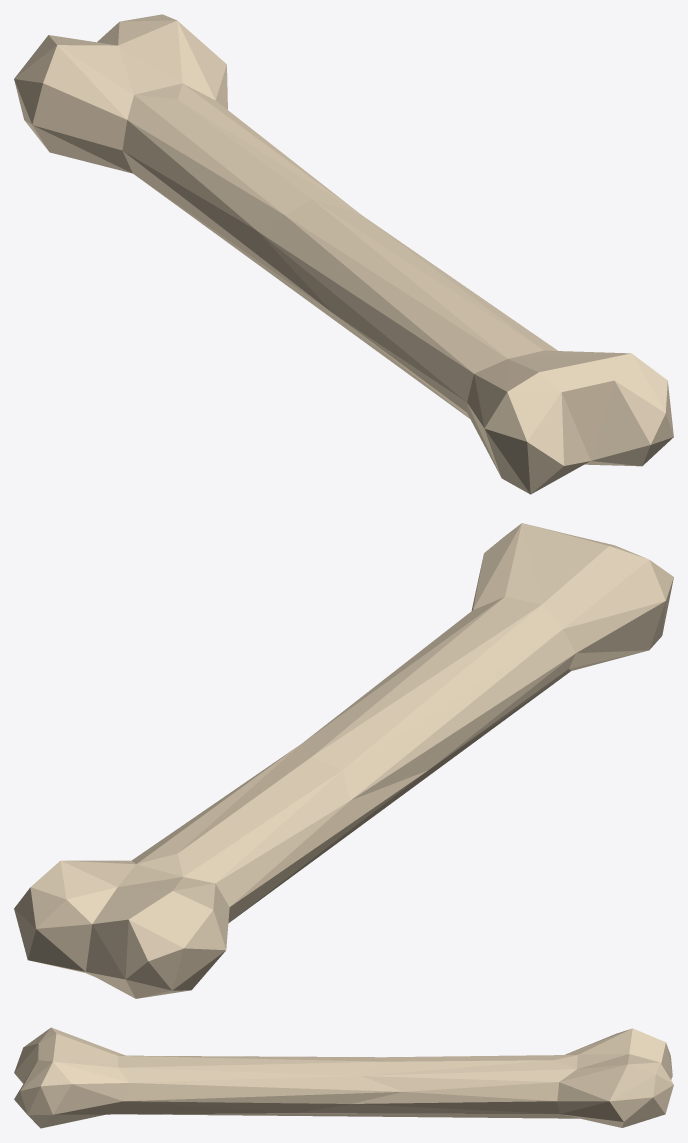
Rendered from bone_2.fbx.
3 views of the same model, one above another, from view 1: azimuth 30°, elevation 25°; view 2: azimuth 150°, elevation 25°; view 3: azimuth 270°, elevation 25° (orthographic). The views are drawn at different scales.
Parts seen in each view (by area): view 1: bone_2; view 2: bone_2; view 3: bone_2.
Part boxes in pixels (x1=…): bone_2: x1=14, y1=14, x2=673, y2=494; bone_2: x1=14, y1=523, x2=673, y2=998; bone_2: x1=14, y1=1027, x2=673, y2=1128.
Size of the model in its own units: 0.0729 by 0.0404 by 0.3485.
